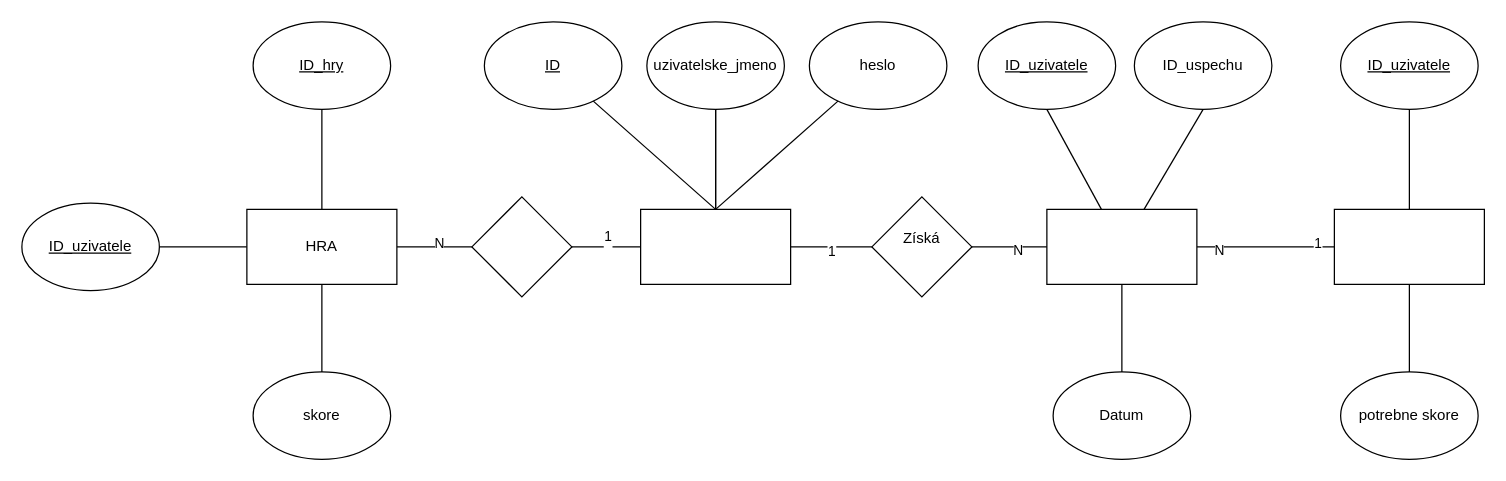
The diagram is 1506 pixels wide and 481 high, and some of its shapes have lost their labels. The shapes that lost their labels are listed below. From the top down, each one's centre as x and y in pixels, then its label:
the point at 521,246: hraje
the point at 715,246: Uživatel
the point at 1121,246: Dokoncene_highskore
the point at 1408,246: highskore
